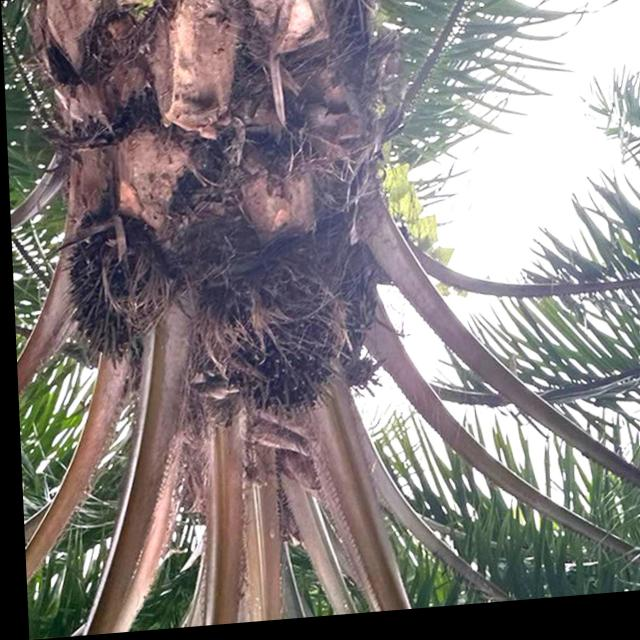ripe: (198, 255, 383, 429), (46, 205, 175, 380)
